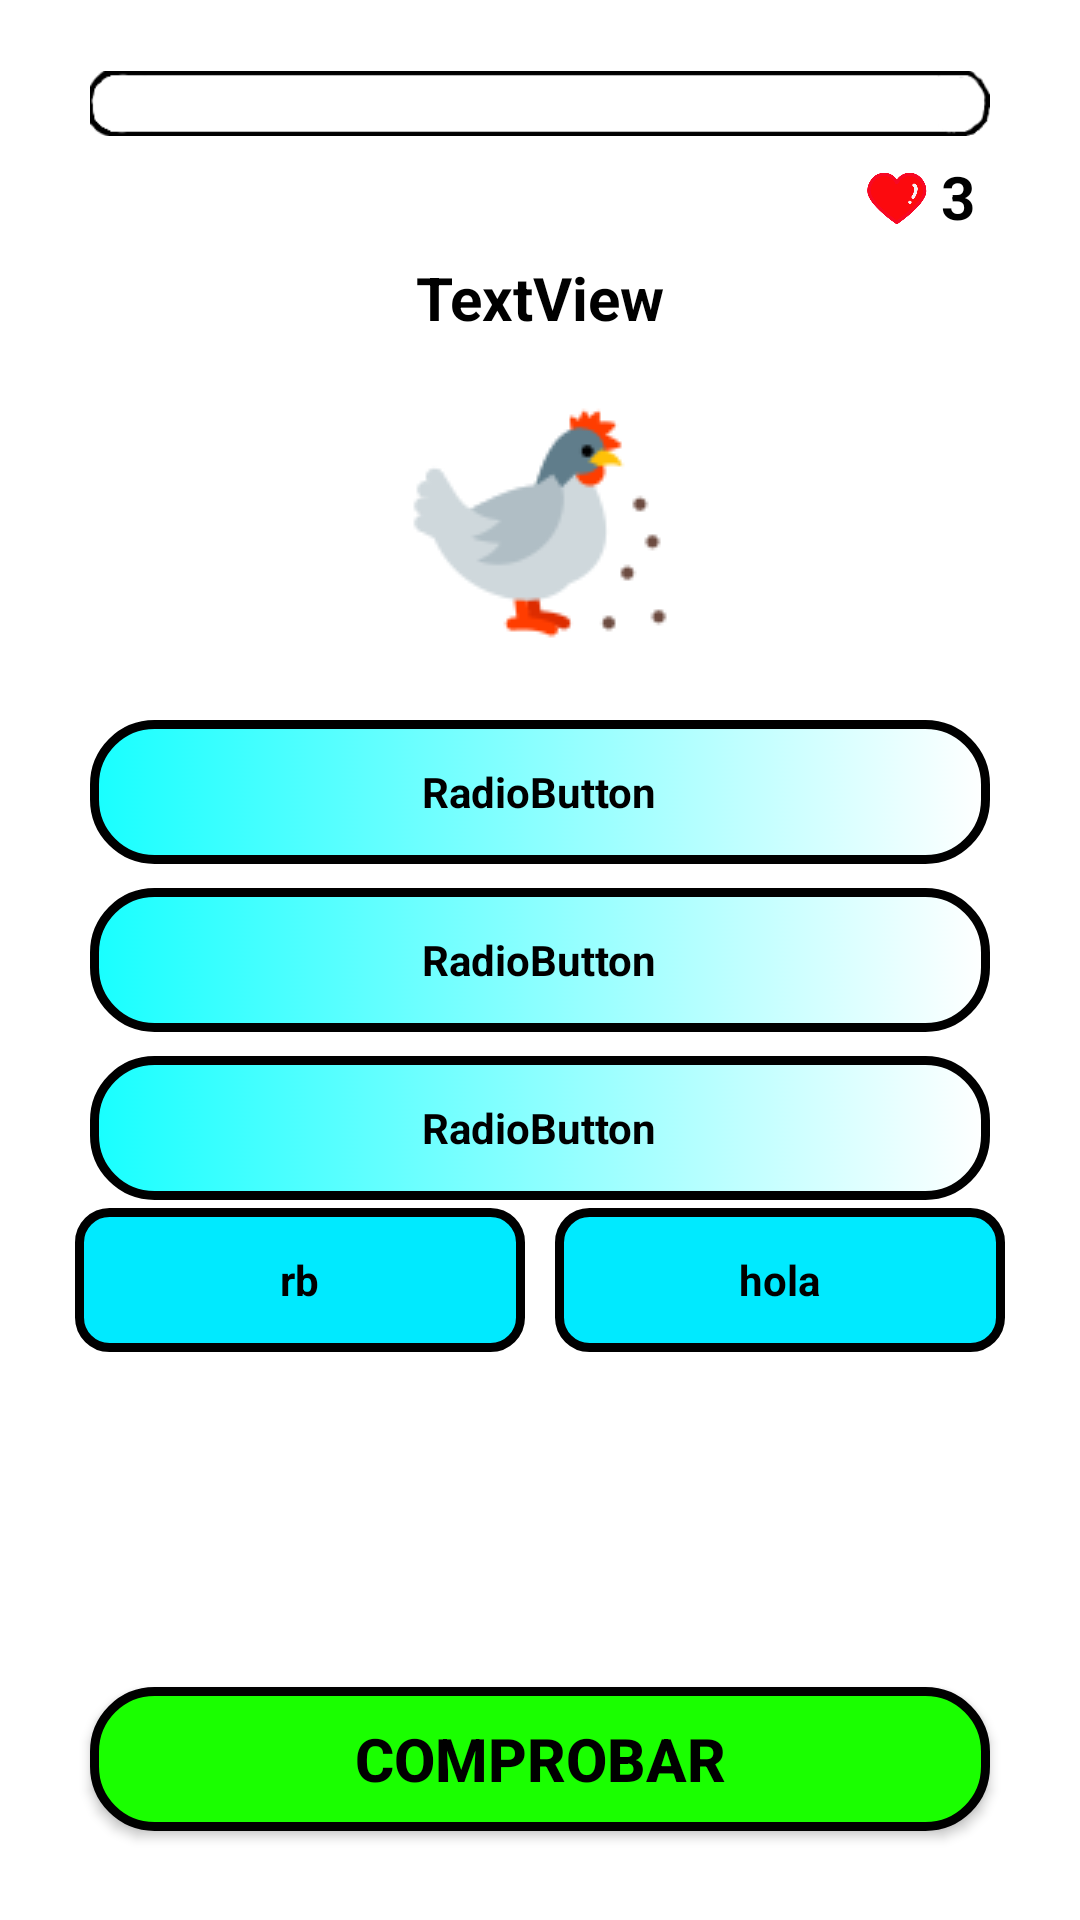

Named icons in this screenshot (1080*1920) and their centers, (x,y):
gallina: (540,523)
heart: (897,198)
